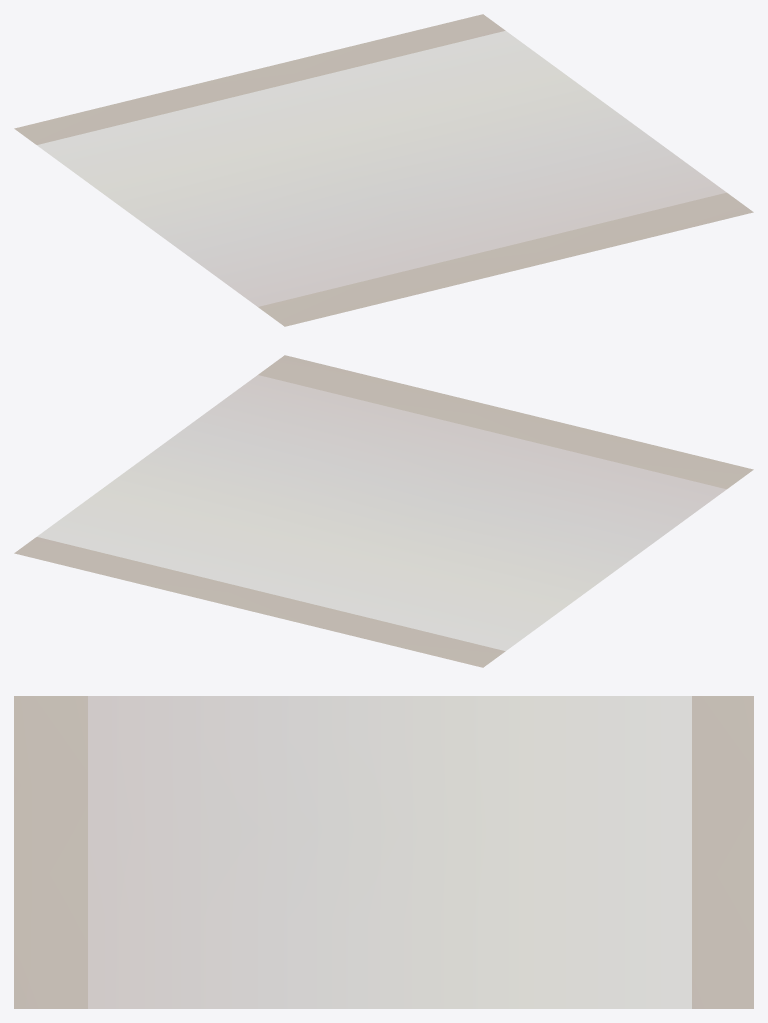
The model's file is M_FloorTile_03.fbx.
3 renders of one model, top to bottom at view 1: azimuth 30°, elevation 25°; view 2: azimuth 150°, elevation 25°; view 3: azimuth 270°, elevation 25°, orthographic. The views are drawn at different scales.
Parts seen in each view (by area): view 1: M_FloorTile_03; view 2: M_FloorTile_03; view 3: M_FloorTile_03.
Part boxes in pixels (<box>): M_FloorTile_03: <box>14,14,753,326</box>; M_FloorTile_03: <box>14,355,753,667</box>; M_FloorTile_03: <box>14,696,753,1008</box>.
Bounding box in the file's own units: 463 × 0 × 463.
1 material, 1 textured.
